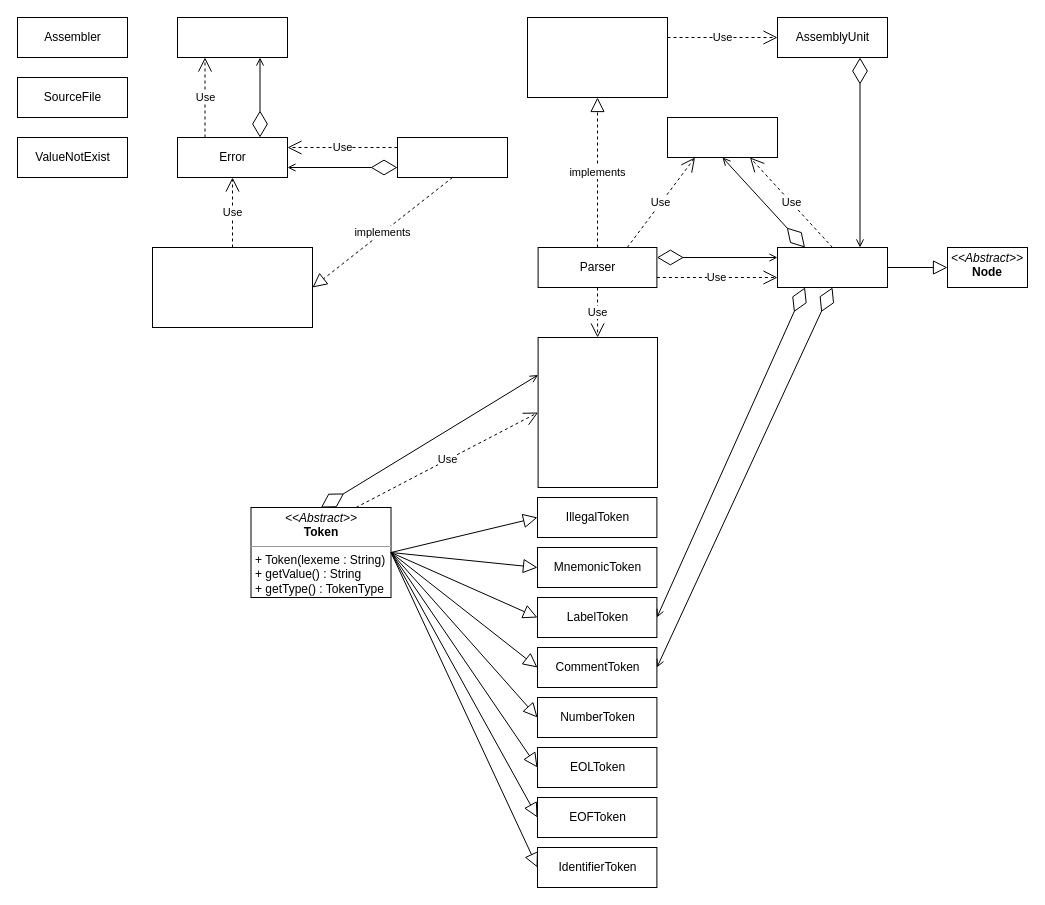
This 1045x905 diagram has some shape labels left out. The shapes that lost their labels are listed below. From the top down, each one's centre as x and y in pixels, then its label:
At point (232, 37): "Position".
At point (597, 57): "<<Interface>> IParser ~ parse() : AssemblyUnit".
At point (452, 157): "ErrorReporter".
At point (722, 137): "Instruction".
At point (232, 287): "<<Interface>> IReportable ~ record(error : Error) : void + getErrorLst : List".
At point (832, 267): "LineStatement".
At point (597, 412): "<<Enumeration>> TokenType EOF EOL NUMBER COMMENT IDENT ILLEGAL_CHAR MNEMONIC".
